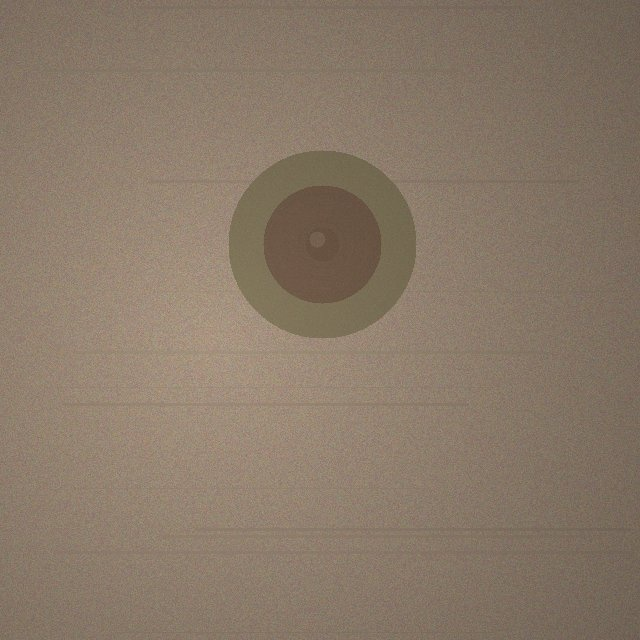good: (228, 150, 416, 338)
